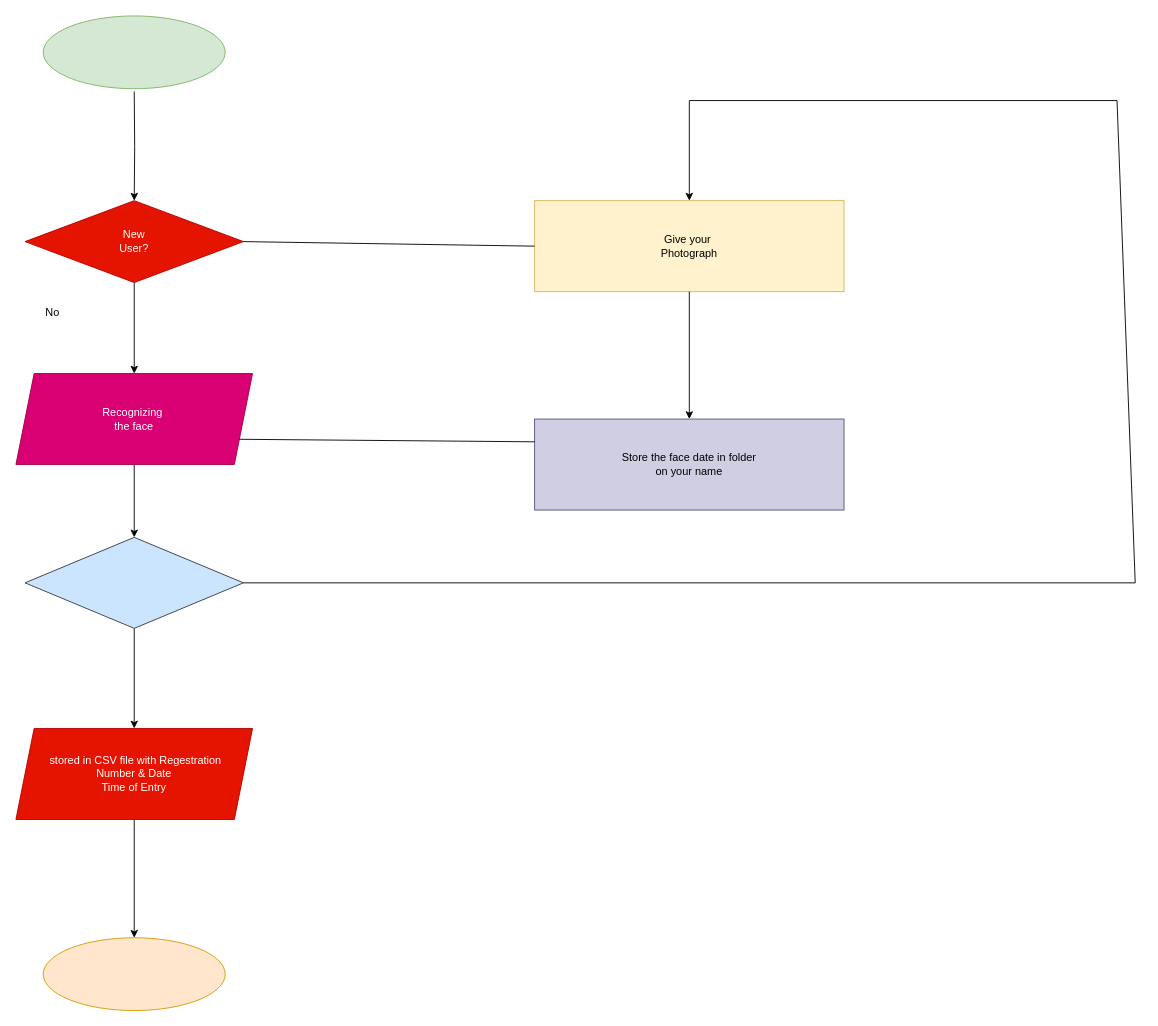
This 1158x1026 diagram has some shape labels left out. The centre of each missing label's shape, as x and y in pixels:
"End" goes at pixel 133 974.
"Face Recognized" goes at pixel 133 582.
"Start" goes at pixel 133 52.
